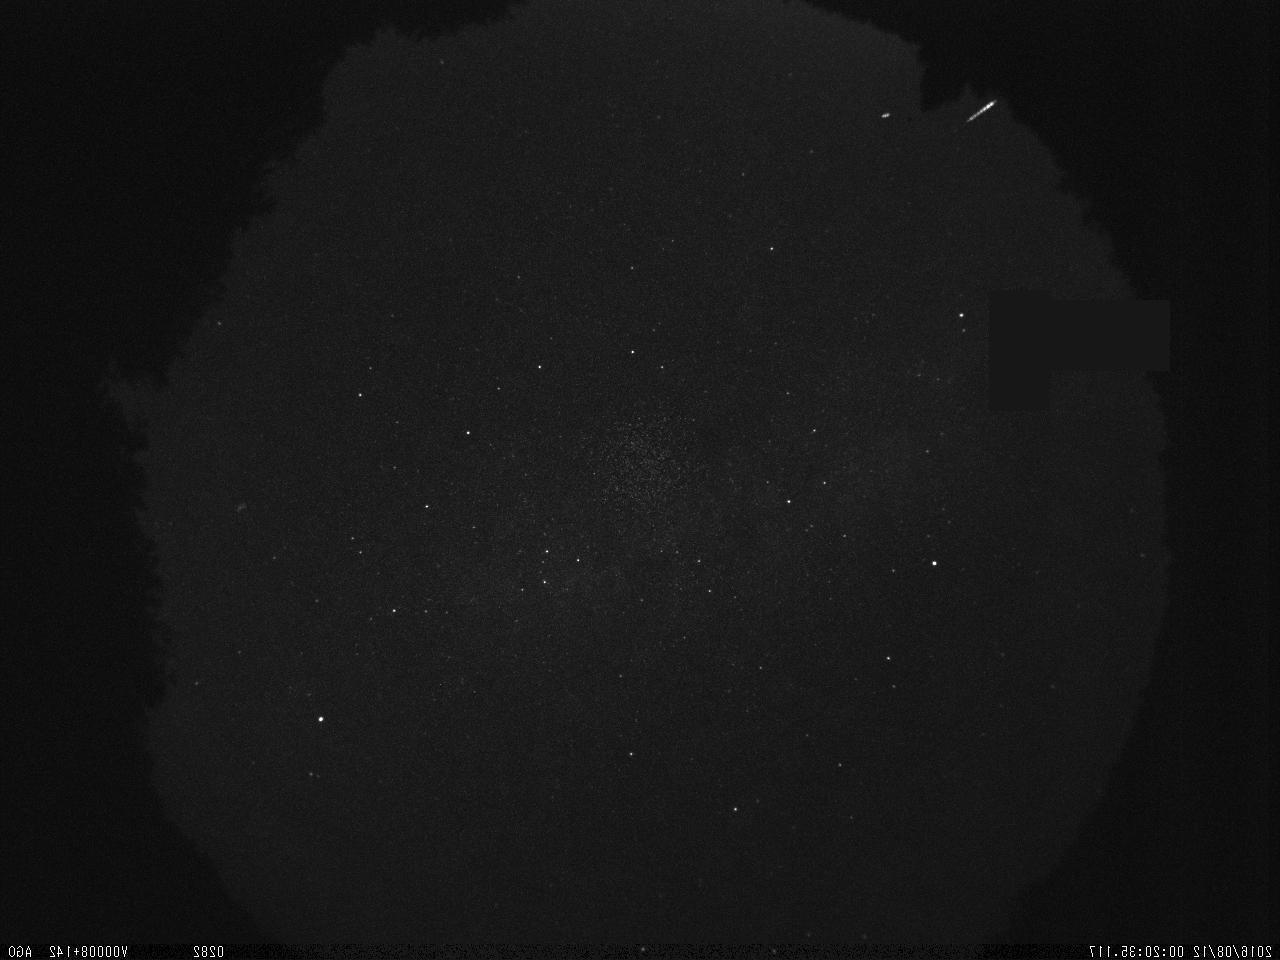meteor: (947, 92, 1004, 134)
